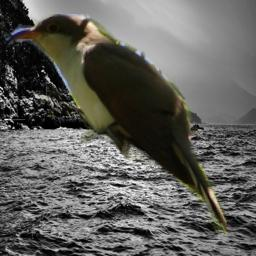Cuckoo: (4, 14, 227, 235)
